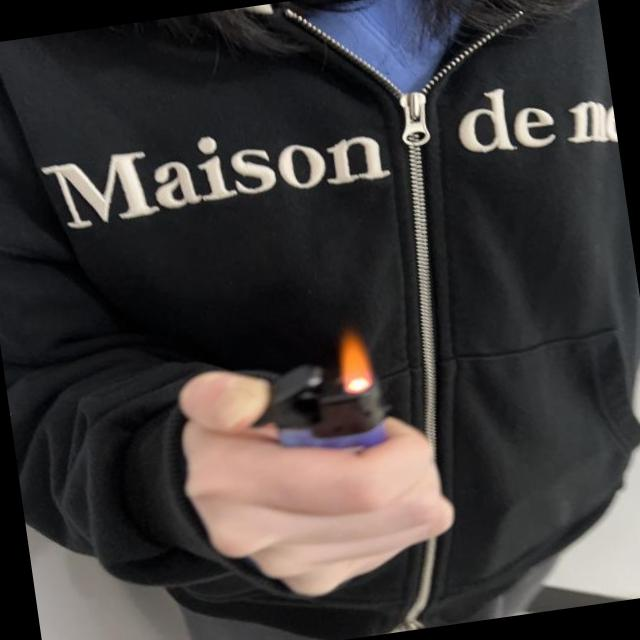Fire: (334, 324, 376, 396)
